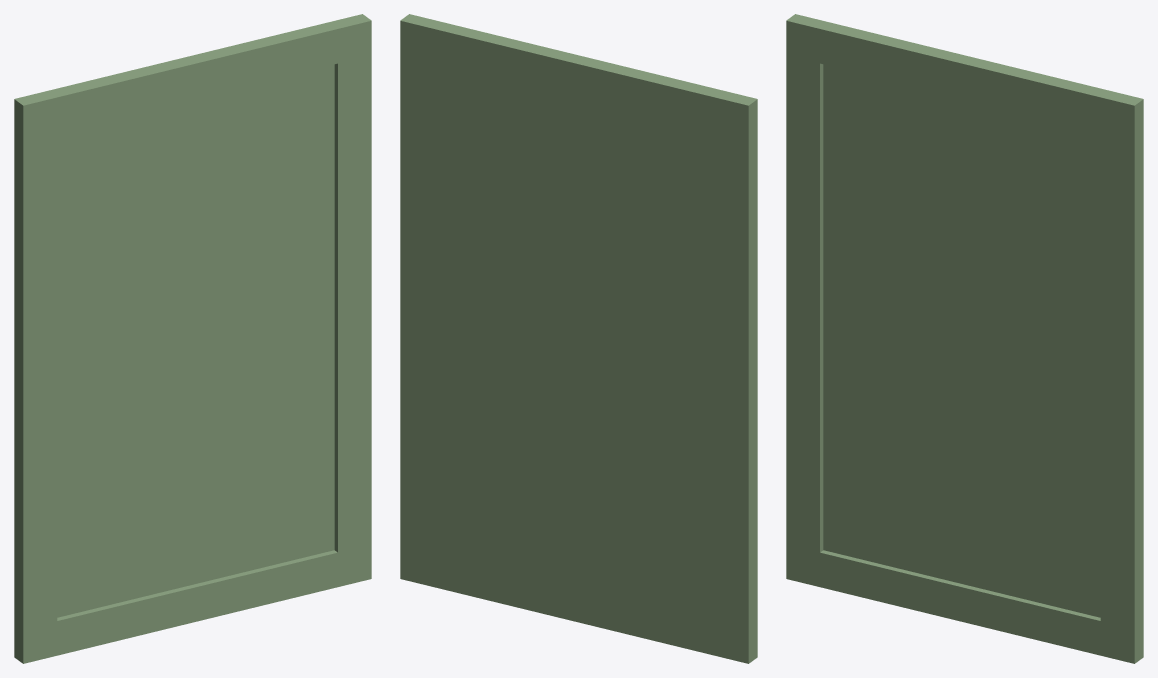
File: Poster.fbx
3 renders of one model, left to right at view 1: azimuth 30°, elevation 25°; view 2: azimuth 150°, elevation 25°; view 3: azimuth 330°, elevation 25°, orthographic.
Parts seen in each view (by area): view 1: Poster; view 2: Poster; view 3: Poster.
Boxes of the visible parts, x1,y1,x2,y2 form: Poster: [14, 14, 371, 663]; Poster: [400, 14, 757, 663]; Poster: [786, 14, 1143, 663].
Bounding box in the file's own units: 81.3 × 124 × 3.69.
